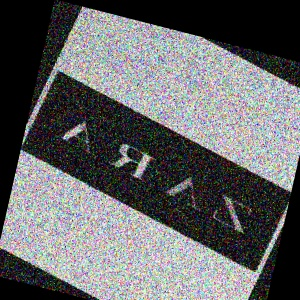zara: (248, 107, 297, 213)
